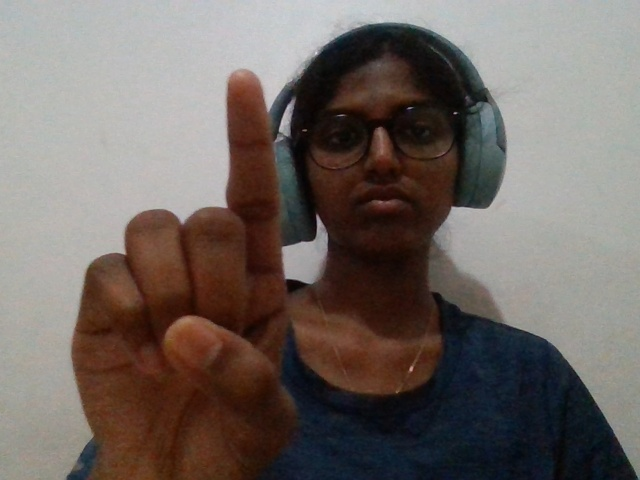D: (40, 56, 305, 480)
